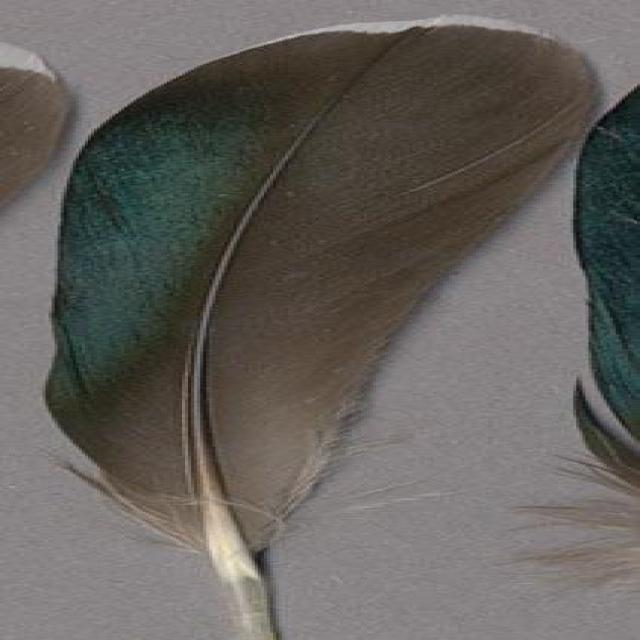feather: (0, 17, 614, 640), (494, 77, 640, 640), (0, 44, 68, 221)
